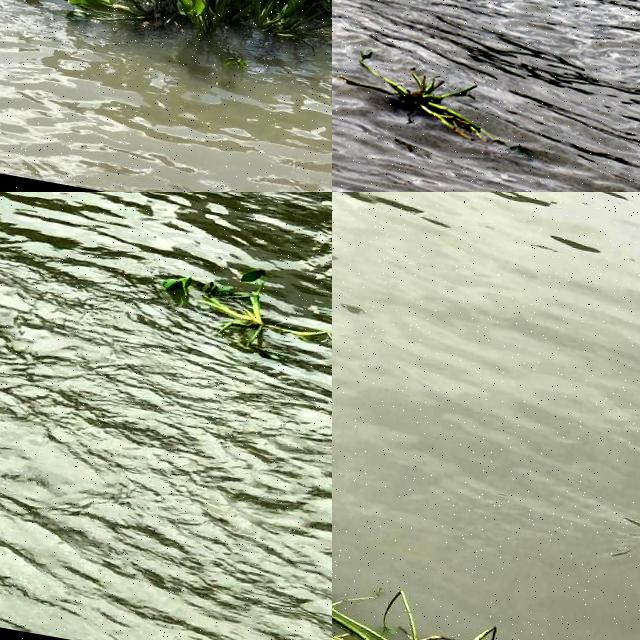water-hyacinth: (151, 246, 333, 373), (26, 1, 333, 63), (333, 583, 501, 640)
